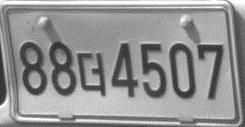0: (167, 42, 196, 99)
4: (109, 41, 139, 98)
5: (138, 41, 168, 98)
7: (196, 43, 225, 101)
8: (19, 40, 48, 95), (48, 40, 77, 95)
더: (76, 50, 108, 97)
